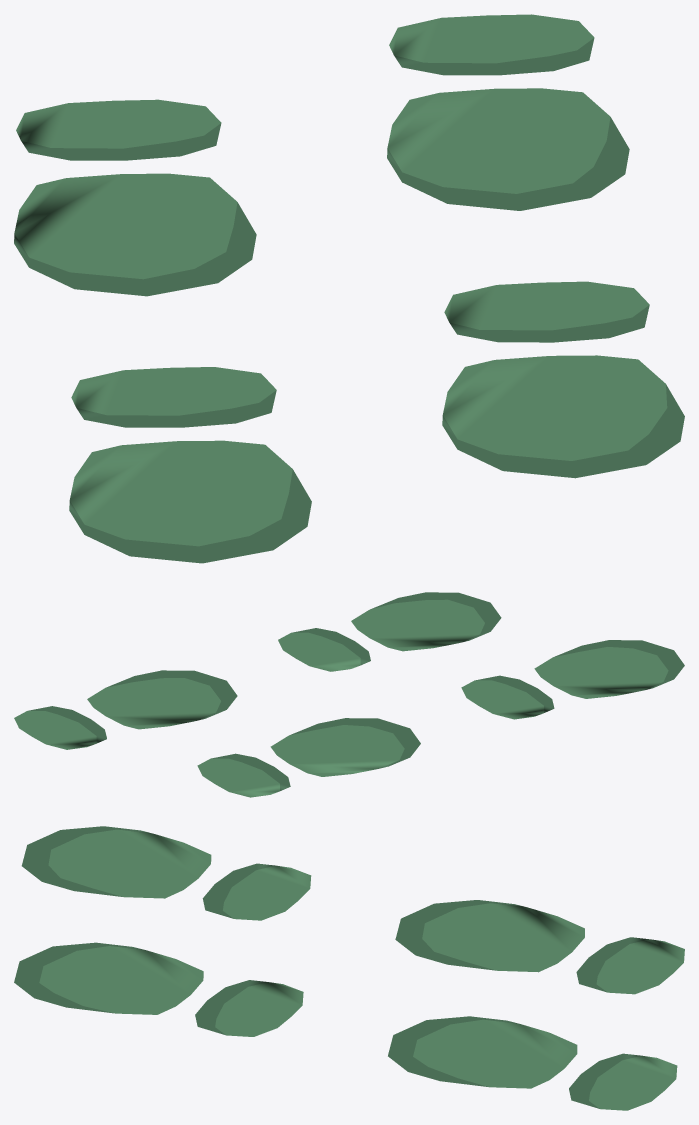
The model's file is NPC_Footprints_002.glb.
The picture shows the model from 3 angles, top to bottom: view 1: azimuth 30°, elevation 25°; view 2: azimuth 150°, elevation 25°; view 3: azimuth 270°, elevation 25°; orthographic projection. The views are drawn at different scales.
Visible parts, largest first — view 1: NPC_Footprints_002_mesh; view 2: NPC_Footprints_002_mesh; view 3: NPC_Footprints_002_mesh.
Boxes of the visible parts, x1=… form: NPC_Footprints_002_mesh: x1=14, y1=14, x2=684, y2=563; NPC_Footprints_002_mesh: x1=14, y1=592, x2=684, y2=797; NPC_Footprints_002_mesh: x1=14, y1=826, x2=684, y2=1110.
Bounding box in the file's own units: 1.43 × 3.13e-07 × 1.42.
Materials: 1 (1 with a texture image).
